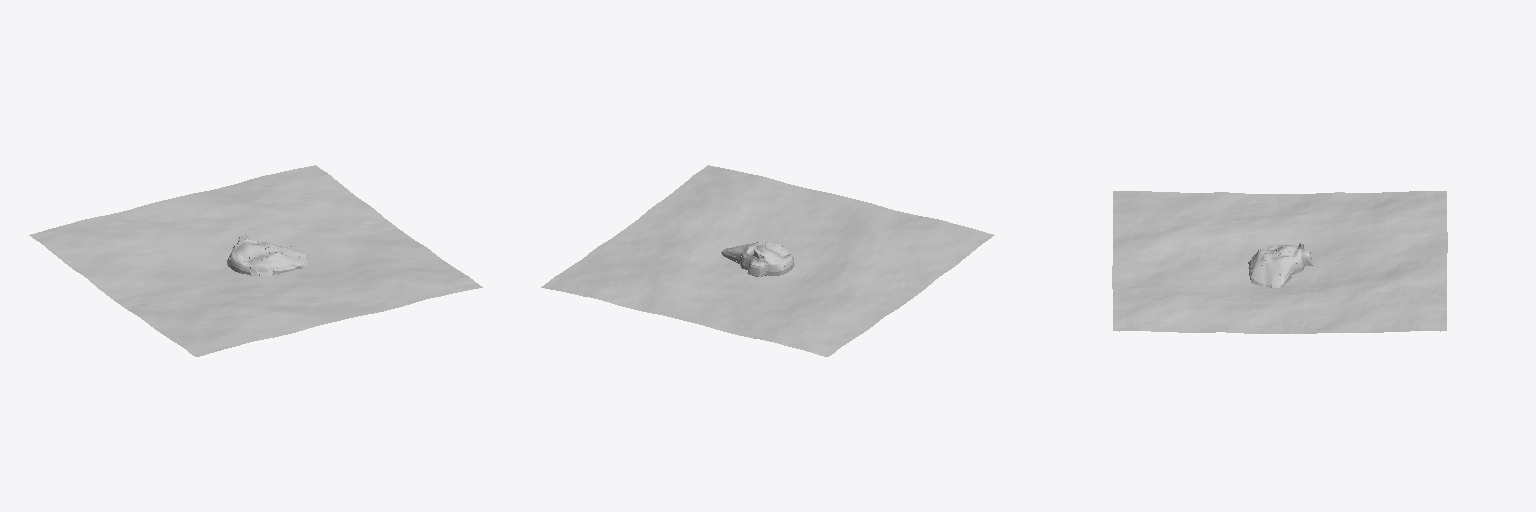
3 views of the same model, side by side, from view 1: azimuth 30°, elevation 25°; view 2: azimuth 150°, elevation 25°; view 3: azimuth 270°, elevation 25° (orthographic).
Parts seen in each view (by area): view 1: 平面, Cube; view 2: 平面, Cube; view 3: 平面, Cube.
Boxes of the visible parts, x1,y1,x2,y2 form: 平面: [29, 165, 482, 356]; Cube: [227, 234, 308, 275]; 平面: [541, 165, 994, 356]; Cube: [721, 241, 793, 276]; 平面: [1112, 191, 1447, 333]; Cube: [1248, 242, 1311, 287].
Size of the model in its own units: 10.33 by 0.9792 by 10.45.